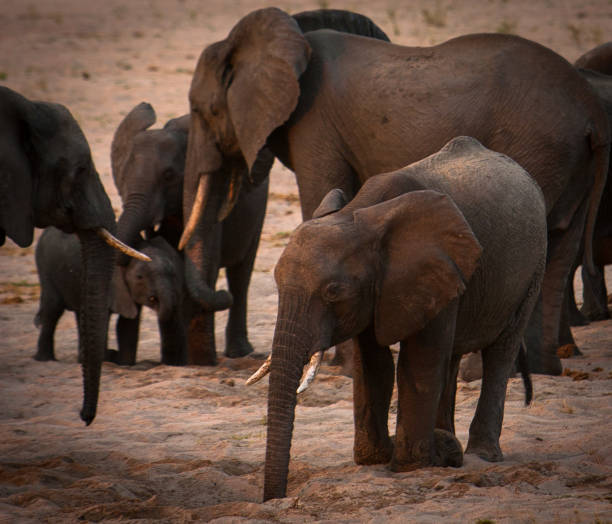africanelephant: (246, 193, 482, 406)
